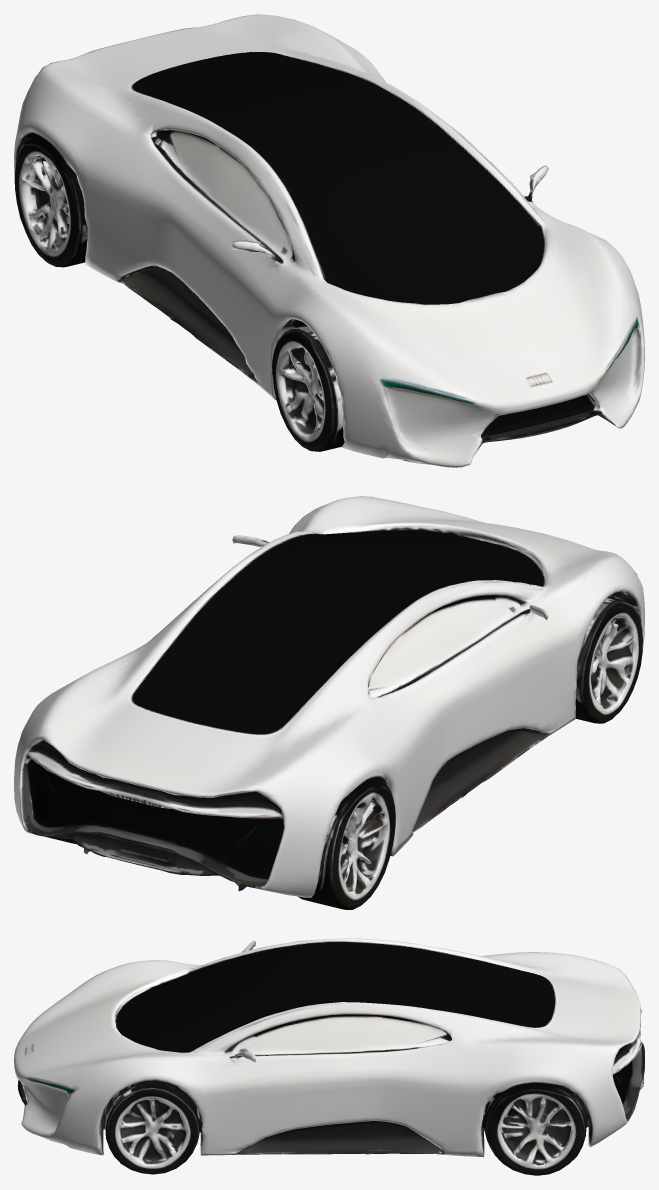
File: base_basic_pbr.glb
The picture shows the model from 3 angles, top to bottom: view 1: azimuth 30°, elevation 25°; view 2: azimuth 150°, elevation 25°; view 3: azimuth 270°, elevation 25°; orthographic projection. The views are drawn at different scales.
Visible parts, largest first — view 1: model; view 2: model; view 3: model.
Boxes of the visible parts, x1,y1,x2,y2 form: model: [14, 14, 644, 467]; model: [14, 496, 644, 909]; model: [14, 938, 644, 1175].
Bounding box in the file's own units: 0.843 × 0.4921 × 1.9.
Materials: 1 (1 with a texture image).
